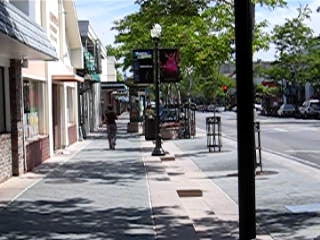person: (104, 104, 119, 151), (103, 104, 118, 151), (105, 104, 120, 151), (104, 103, 119, 150), (104, 105, 119, 152)
target_negative: (44, 87, 255, 238), (106, 29, 297, 187), (173, 81, 295, 167), (141, 160, 313, 186), (151, 12, 202, 81), (264, 112, 288, 219)
